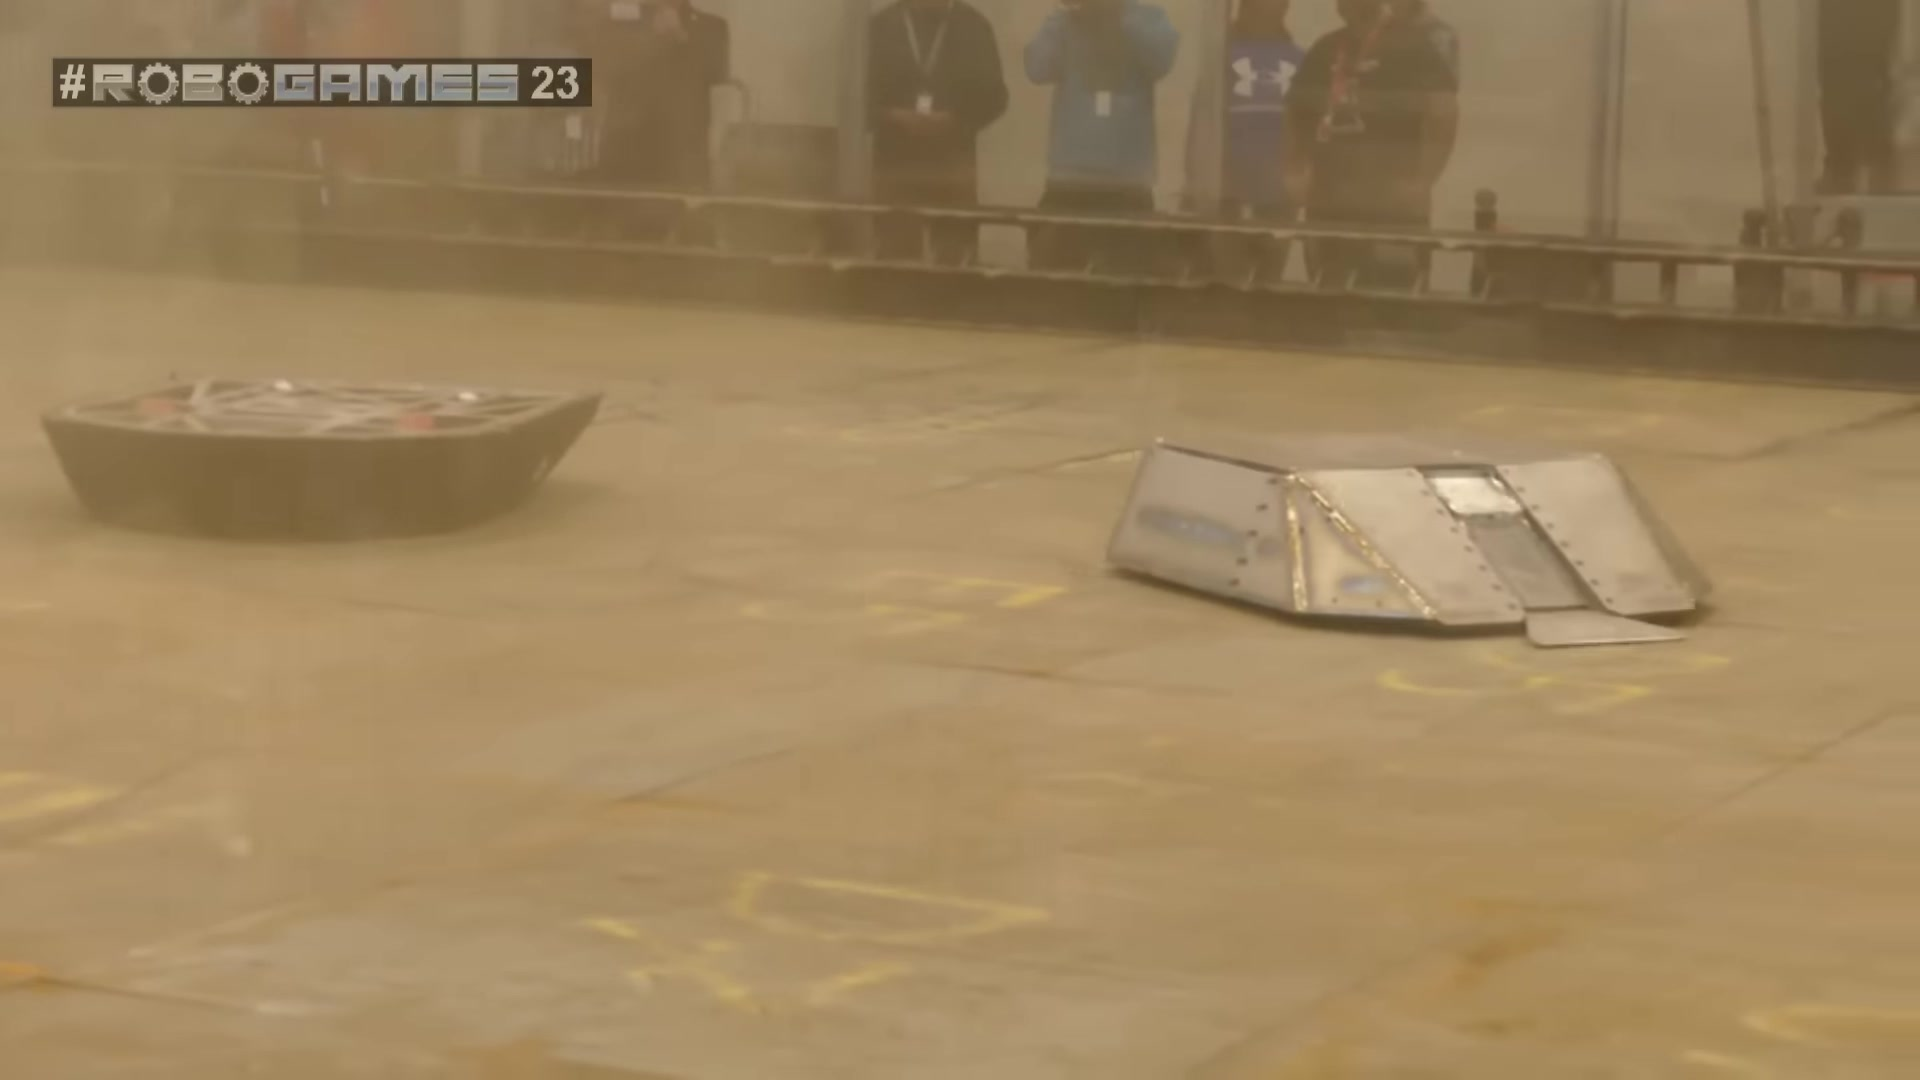combatbot: (1105, 436, 1720, 655), (51, 367, 597, 534)
